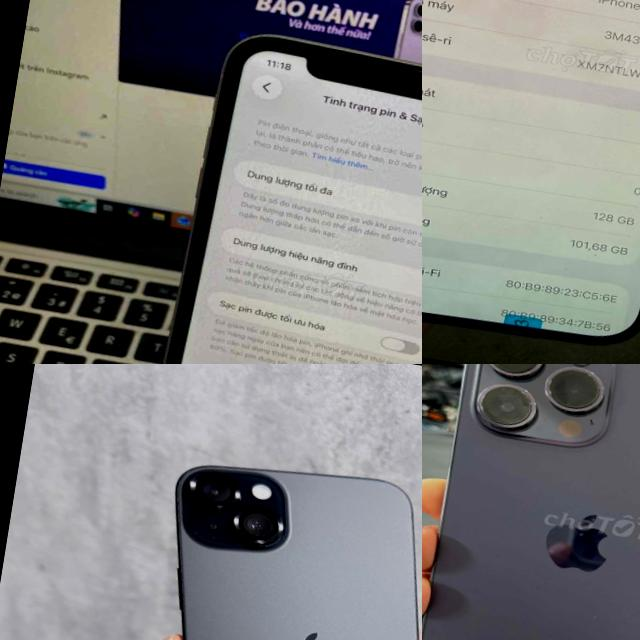scratch: (508, 378, 568, 420), (510, 364, 562, 386)
